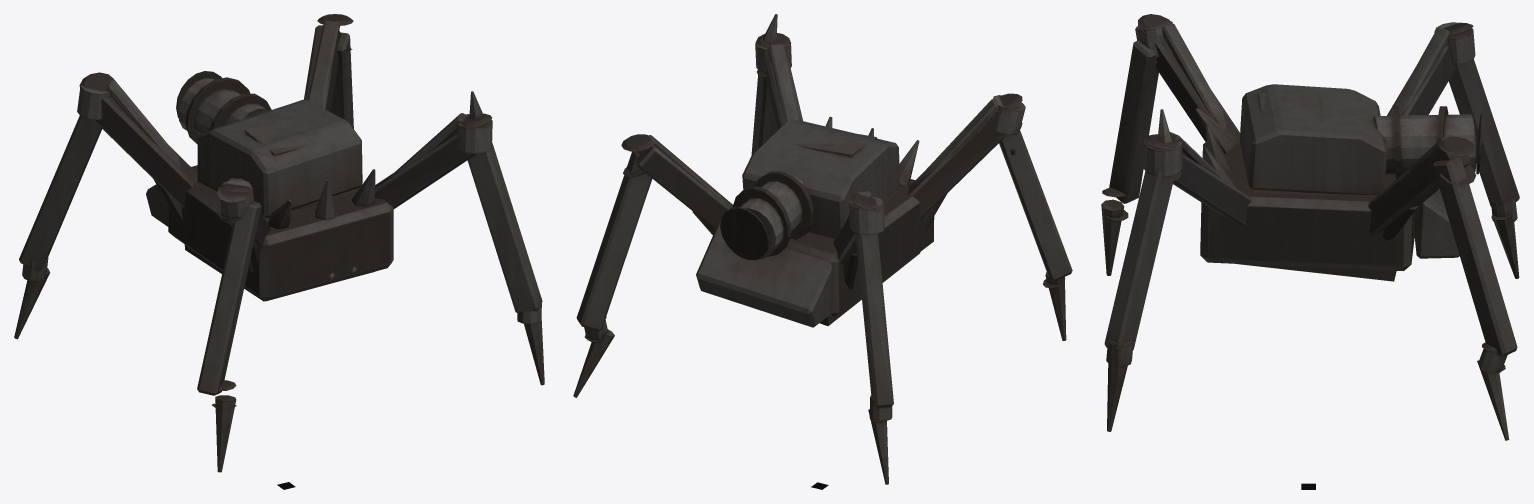
Rendered from chs_ravener_wreck.fbx.
3 views of the same model, side by side, from view 1: azimuth 30°, elevation 25°; view 2: azimuth 150°, elevation 25°; view 3: azimuth 270°, elevation 25° (orthographic). The views are drawn at different scales.
Parts seen in each view (by area): view 1: torso_bar, base_bar, thighFL_bar, shinBR_bar, shinBL_bar, shinFL_bar, thighBR_bar, thighFR_bar, thighBL_bar, shinFR_bar; view 2: torso_bar, base_bar, shinFR_bar, thighBL_bar, shinFL_bar, shinBL_bar, thighFR_bar, thighBR_bar, thighFL_bar, shinBR_bar; view 3: torso_bar, base_bar, shinFR_bar, shinBR_bar, shinBL_bar, shinFL_bar, thighBL_bar, thighFR_bar, thighBR_bar, thighFL_bar.
Boxes of the visible parts, box(x1,y1,x2,y2) form: torso_bar: box(176, 71, 362, 217); base_bar: box(146, 165, 393, 301); thighFL_bar: box(77, 72, 197, 226); shinBR_bar: box(467, 91, 544, 385); shinBL_bar: box(197, 201, 261, 472); shinFL_bar: box(14, 115, 101, 339); thighBR_bar: box(375, 113, 492, 208); thighFR_bar: box(304, 14, 353, 111); thighBL_bar: box(217, 178, 270, 271); shinFR_bar: box(330, 32, 353, 128); torso_bar: box(720, 120, 900, 260); base_bar: box(696, 116, 934, 327); shinFR_bar: box(573, 151, 652, 397); thighBL_bar: box(908, 93, 1025, 230); shinFL_bar: box(855, 233, 893, 484); shinBL_bar: box(999, 130, 1072, 340); thighFR_bar: box(621, 134, 732, 234); thighBR_bar: box(755, 33, 802, 129); thighFL_bar: box(833, 191, 885, 289); shinBR_bar: box(751, 14, 777, 155); torso_bar: box(1239, 84, 1483, 195); base_bar: box(1195, 108, 1459, 281); shinFR_bar: box(1433, 156, 1517, 440); shinBR_bar: box(1104, 109, 1173, 431); shinBL_bar: box(1101, 40, 1158, 275); shinFL_bar: box(1448, 59, 1519, 278); thighBL_bar: box(1135, 14, 1239, 142); thighFR_bar: box(1368, 135, 1476, 240); thighBR_bar: box(1143, 132, 1251, 225); thighFL_bar: box(1387, 22, 1475, 115).
Size of the model in its own units: 562 by 657 by 570.
2 materials, 2 textured.
